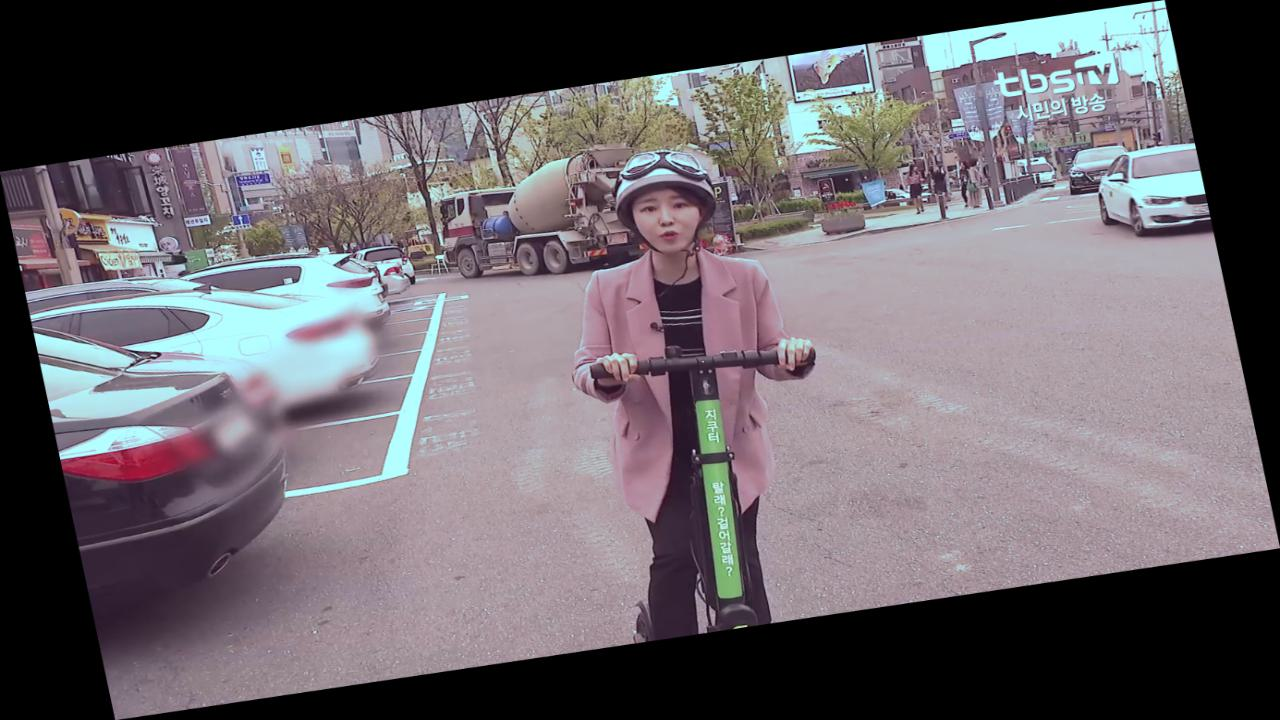helmet: (525, 129, 874, 645)
